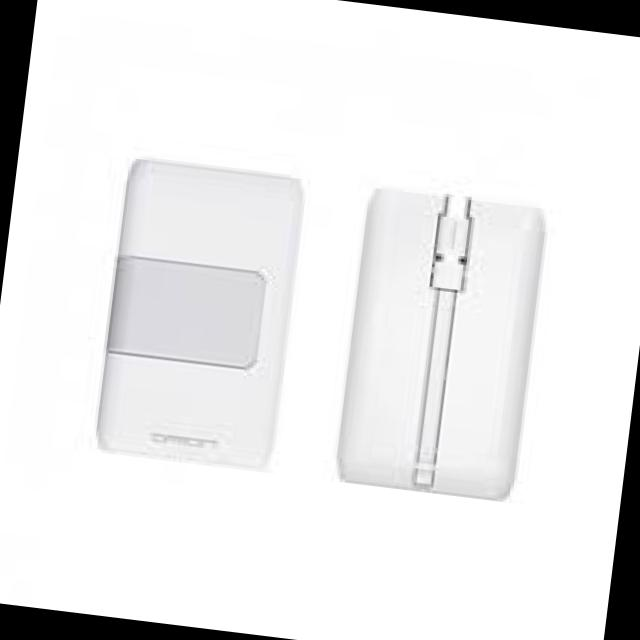portable-charger: (331, 181, 554, 508), (94, 156, 310, 472)
